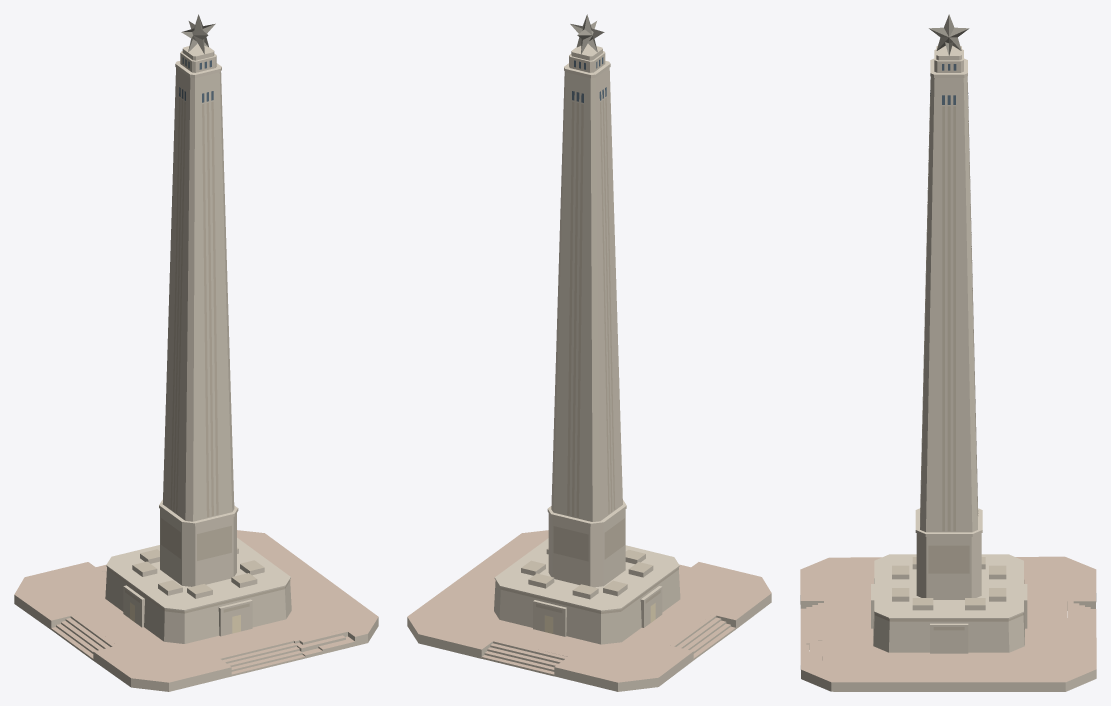
Rendered from hou-san-jacinto-monument.glb.
3 renders of one model, left to right at view 1: azimuth 30°, elevation 25°; view 2: azimuth 150°, elevation 25°; view 3: azimuth 270°, elevation 25°, orthographic. The views are drawn at different scales.
Parts seen in each view (by area): view 1: San Jacinto Monument; view 2: San Jacinto Monument; view 3: San Jacinto Monument.
Boxes of the visible parts, x1=… form: San Jacinto Monument: x1=14, y1=14, x2=378, y2=691; San Jacinto Monument: x1=407, y1=14, x2=771, y2=691; San Jacinto Monument: x1=800, y1=14, x2=1096, y2=691.
Size of the model in its own units: 74.84 by 171 by 74.58.
